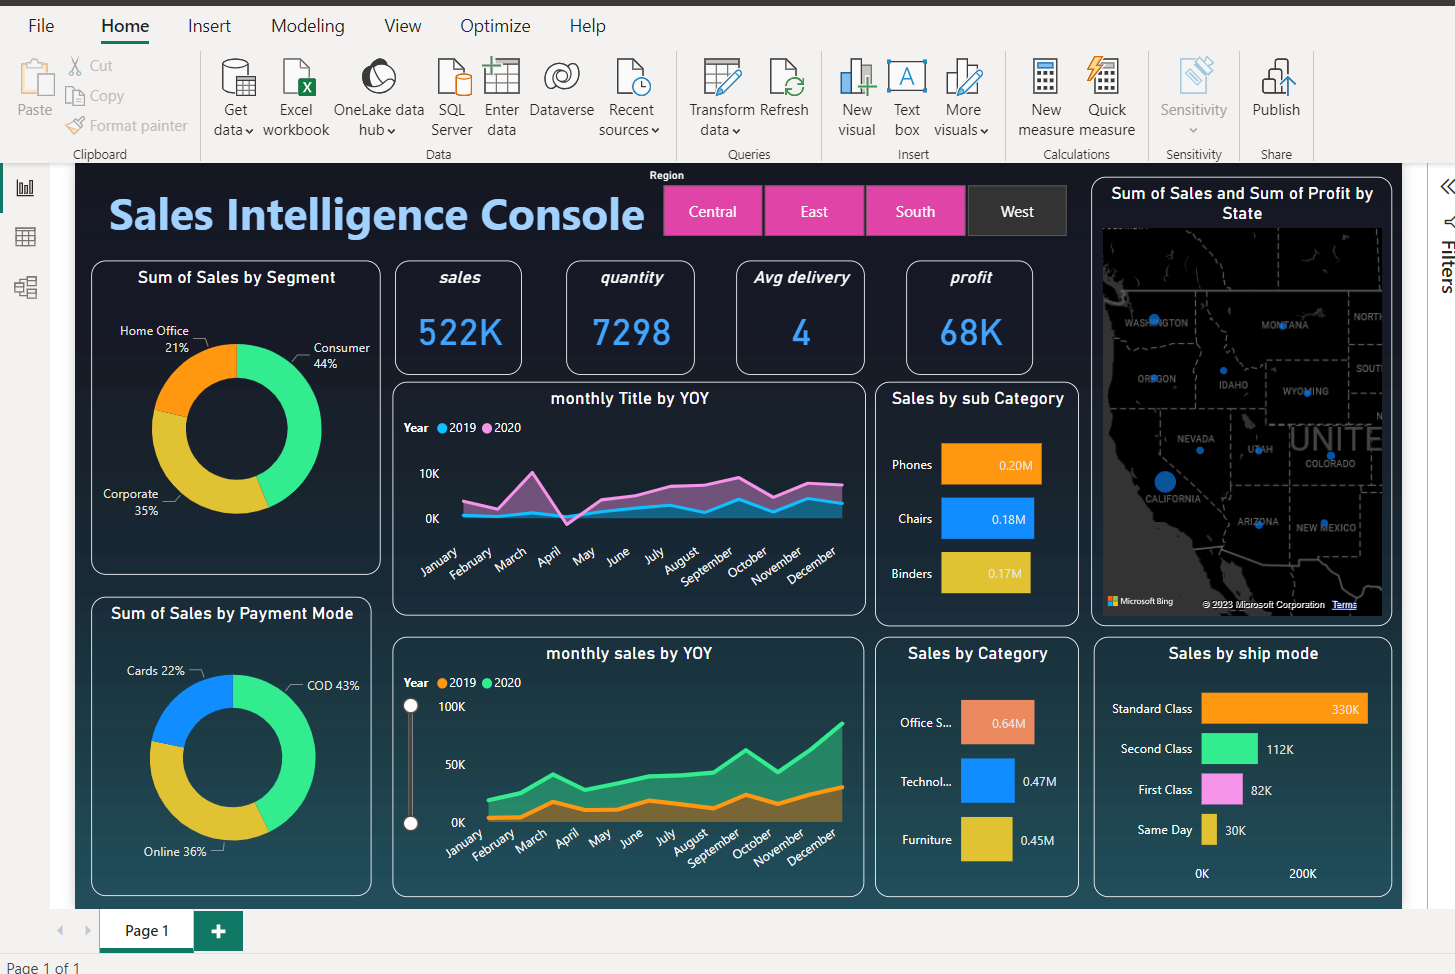

The dashboard page shown, as its layout file describes it:
{"tool":"powerbi","page":{"name":"Page 1","canvas":[1280,720],"ordinal":0},"visuals":[{"type":"clusteredBarChart","title":" Sales by Category","fields":{"Category":["SuperStore_Sales_Dataset.Category"],"Y":["Sum(SuperStore_Sales_Dataset.Sales)"]},"box":[772.5,456.6,197.1,251],"z":0},{"type":"clusteredBarChart","title":" Sales by sub  Category","fields":{"Category":["SuperStore_Sales_Dataset.Sub-Category"],"Y":["Sum(SuperStore_Sales_Dataset.Sales)"]},"box":[772.5,210.6,197.1,236.3],"z":1000},{"type":"clusteredBarChart","title":" Sales by ship mode","fields":{"Category":["SuperStore_Sales_Dataset.Ship Mode","SuperStore_Sales_Dataset.Sub-Category"],"Y":["Sum(SuperStore_Sales_Dataset.Sales)"]},"box":[983,456.6,287.7,251],"z":2000},{"type":"stackedAreaChart","title":"monthly Title by YOY ","fields":{"Category":["SuperStore_Sales_Dataset1 (3).Order Date.Variation.Date Hierarchy.Month","SuperStore_Sales_Dataset1 (3).Order Date.Variation.Date Hierarchy.Day"],"Series":["SuperStore_Sales_Dataset1 (3).Order Date.Variation.Date Hierarchy.Year"],"Y":["Sum(SuperStore_Sales_Dataset1 (3).Profit)"]},"box":[306,210.6,456.6,225.3],"z":3000},{"type":"stackedAreaChart","title":"monthly sales by YOY ","fields":{"Y":["Sum(SuperStore_Sales_Dataset1 (3).Sales)"],"Category":["SuperStore_Sales_Dataset1 (3).Order Date.Variation.Date Hierarchy.Month","SuperStore_Sales_Dataset1 (3).Order Date.Variation.Date Hierarchy.Day"],"Series":["SuperStore_Sales_Dataset1 (3).Order Date.Variation.Date Hierarchy.Year"]},"box":[306,456.6,455.4,251],"z":4000},{"type":"map","fields":{"Category":["SuperStore_Sales_Dataset1 (3).State"],"Size":["Sum(SuperStore_Sales_Dataset1 (3).Sales)"]},"box":[980.6,13.5,290.1,433.4],"z":5000},{"type":"donutChart","fields":{"Category":["SuperStore_Sales_Dataset1 (3).Segment"],"Y":["Sum(SuperStore_Sales_Dataset1 (3).Sales)"]},"box":[15.9,94.3,279.1,303.6],"z":6000},{"type":"donutChart","fields":{"Category":["SuperStore_Sales_Dataset1 (3).Payment Mode","SuperStore_Sales_Dataset1 (3).Segment"],"Y":["Sum(SuperStore_Sales_Dataset1 (3).Sales)"]},"box":[15.9,418.7,270.5,288.9],"z":7000},{"type":"slicer","fields":{"Values":["SuperStore_Sales_Dataset1 (3).Region"]},"box":[541.1,0,439.5,77.1],"z":8000},{"type":"textbox","box":[27.2,12.9,562.3,93],"z":9000},{"type":"card","title":"quantity","fields":{"Values":["Sum(SuperStore_Sales_Dataset1 (3).Quantity)"]},"box":[473.8,94.3,123.6,110.2],"z":10001},{"type":"card","title":"sales","fields":{"Values":["Sum(SuperStore_Sales_Dataset1 (3).Sales)"]},"box":[308.5,94.3,122.4,110.2],"z":10002},{"type":"card","title":"Avg delivery","fields":{"Values":["Avg(SuperStore_Sales_Dataset1 (3).avgDelivery)"]},"box":[637.8,94.3,123.6,110.2],"z":10003},{"type":"card","title":"profit","fields":{"Values":["Sum(SuperStore_Sales_Dataset1 (3).Profit)"]},"box":[801.8,94.3,122.4,110.2],"z":10004}]}

Visuals, with their boxes on the page's 1280x720 design canvas (x1, y1, x2, y2). These are canvas units, not pixel positions in the 1455x974 screenshot, which may show the page scaled, cropped or inside an application window:
" Sales by Category" clusteredBarChart: [x1=772, y1=457, x2=970, y2=708]
" Sales by sub  Category" clusteredBarChart: [x1=772, y1=211, x2=970, y2=447]
" Sales by ship mode" clusteredBarChart: [x1=983, y1=457, x2=1271, y2=708]
"monthly Title by YOY " stackedAreaChart: [x1=306, y1=211, x2=763, y2=436]
"monthly sales by YOY " stackedAreaChart: [x1=306, y1=457, x2=761, y2=708]
map - SuperStore_Sales_Dataset1 (3).State x Sum(SuperStore_Sales_Dataset1 (3).Sales): [x1=981, y1=14, x2=1271, y2=447]
donutChart - SuperStore_Sales_Dataset1 (3).Segment x Sum(SuperStore_Sales_Dataset1 (3).Sales): [x1=16, y1=94, x2=295, y2=398]
donutChart - SuperStore_Sales_Dataset1 (3).Payment Mode x SuperStore_Sales_Dataset1 (3).Segment: [x1=16, y1=419, x2=286, y2=708]
slicer - SuperStore_Sales_Dataset1 (3).Region: [x1=541, y1=0, x2=981, y2=77]
textbox: [x1=27, y1=13, x2=590, y2=106]
"quantity" card: [x1=474, y1=94, x2=597, y2=204]
"sales" card: [x1=308, y1=94, x2=431, y2=204]
"Avg delivery" card: [x1=638, y1=94, x2=761, y2=204]
"profit" card: [x1=802, y1=94, x2=924, y2=204]
